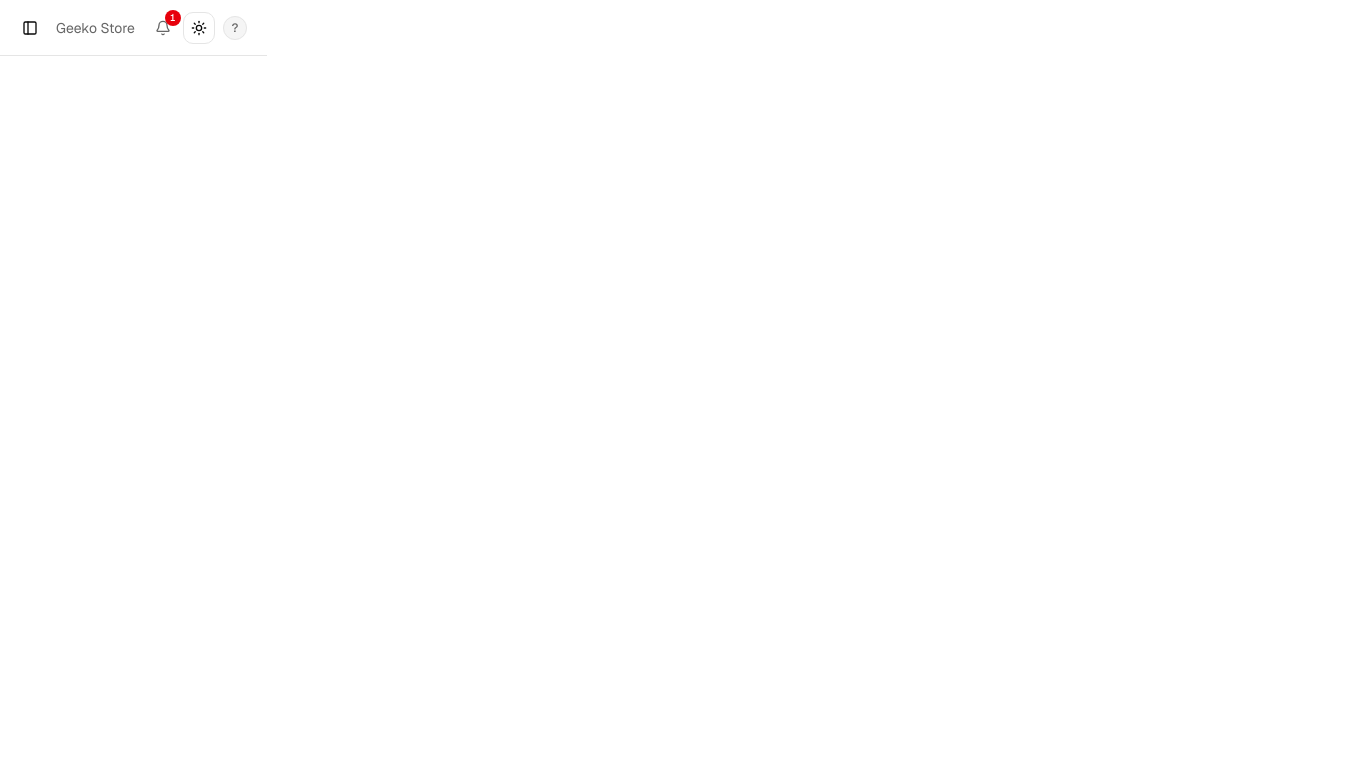
Test: Header › al abrirla con avisos los muestra y ya no dice que no está disponible
The image size is (1366, 768).
Click the button with test id "notification-bell".
click(163, 28)  # box top-left (147, 12), bottom-right (179, 44)
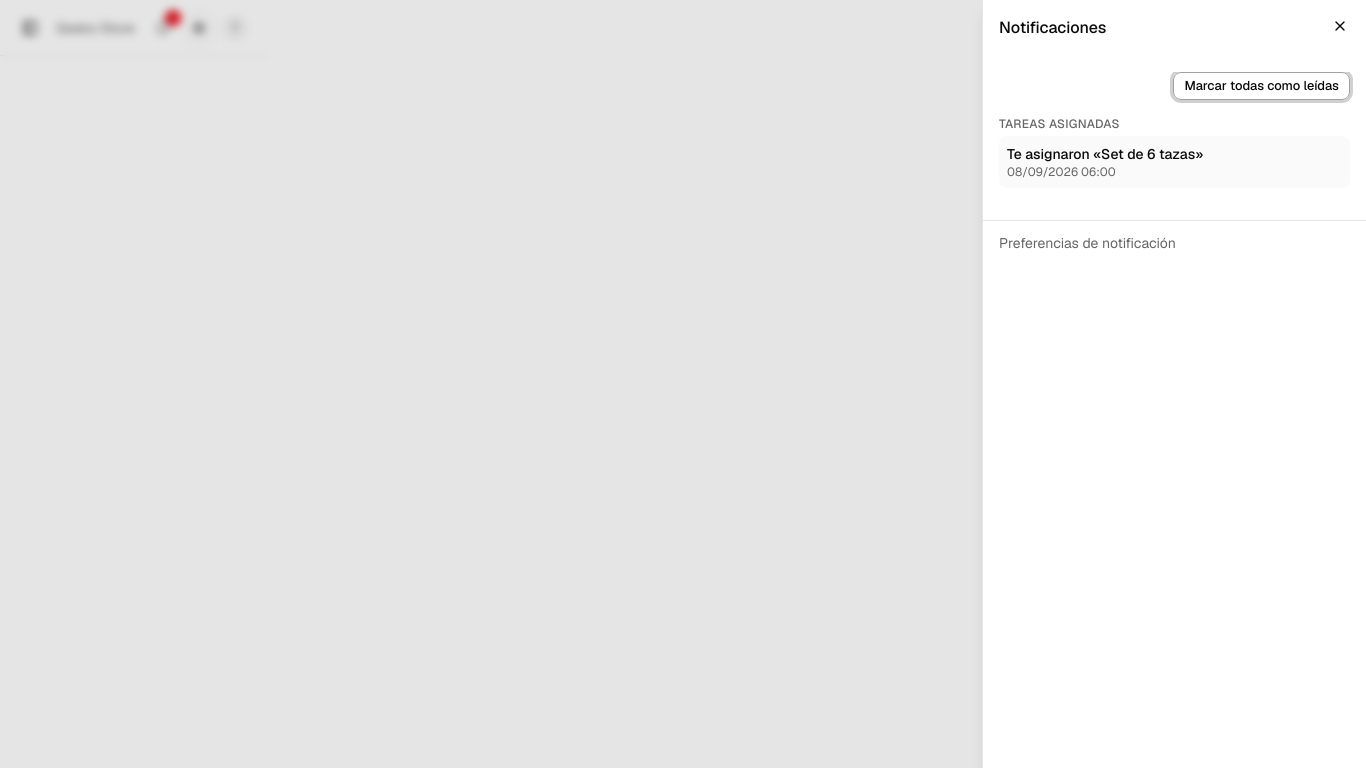
Check: the link with test id "notification-n1" is shown, box top-left (999, 136), bottom-right (1350, 188)
